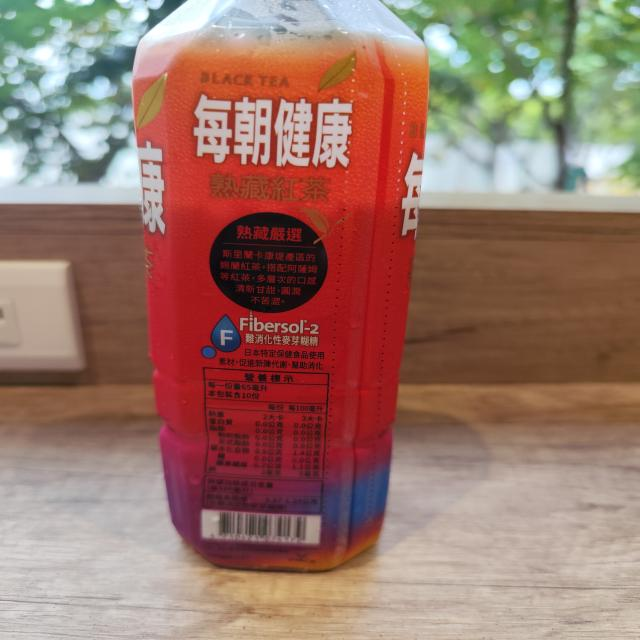MeiChou_BlackTea: (118, 0, 428, 579)
